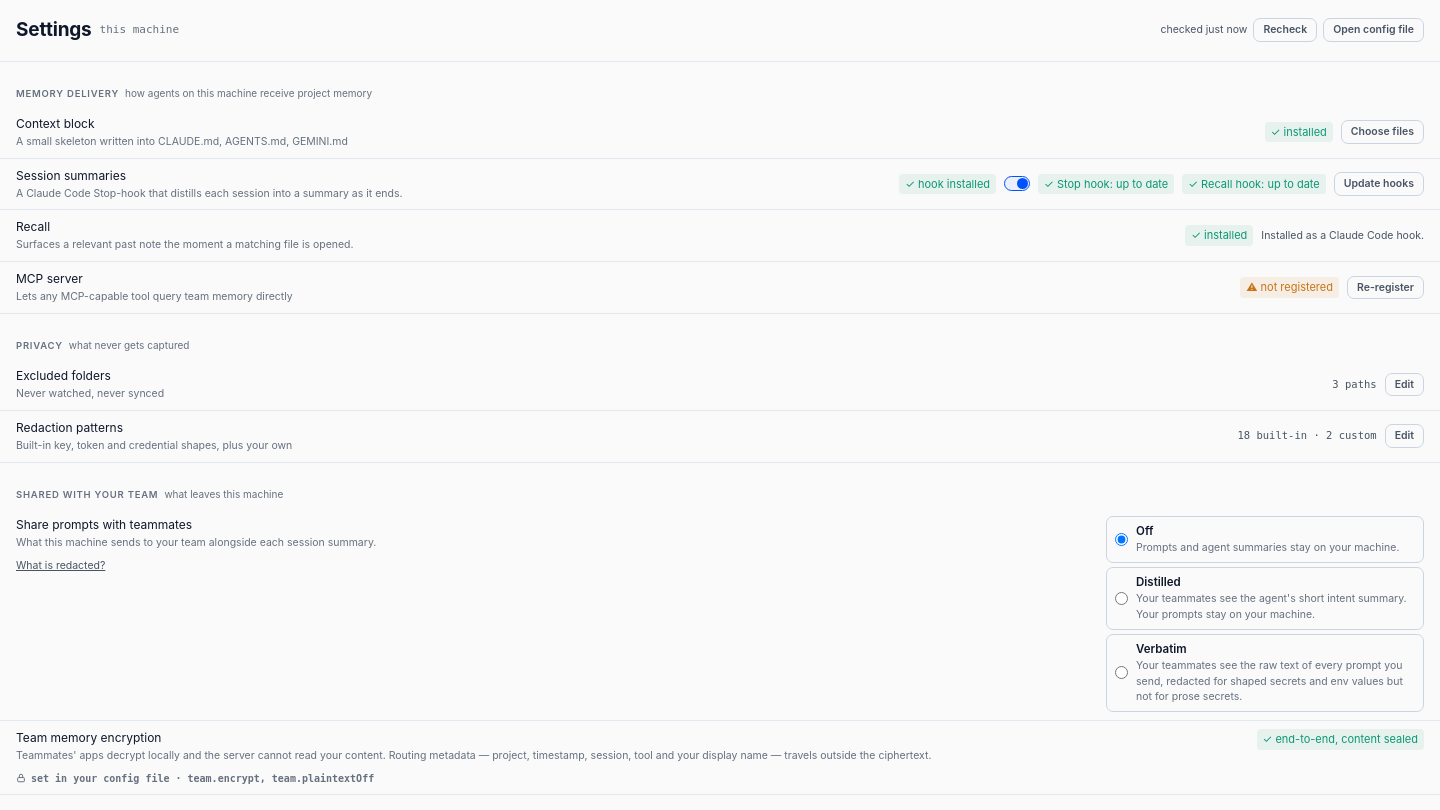
Test: SettingsPage › reports the per-tool result after Re-register succeeds
Click the button "Re-register" at (1386, 287), box [1347,276,1424,299]
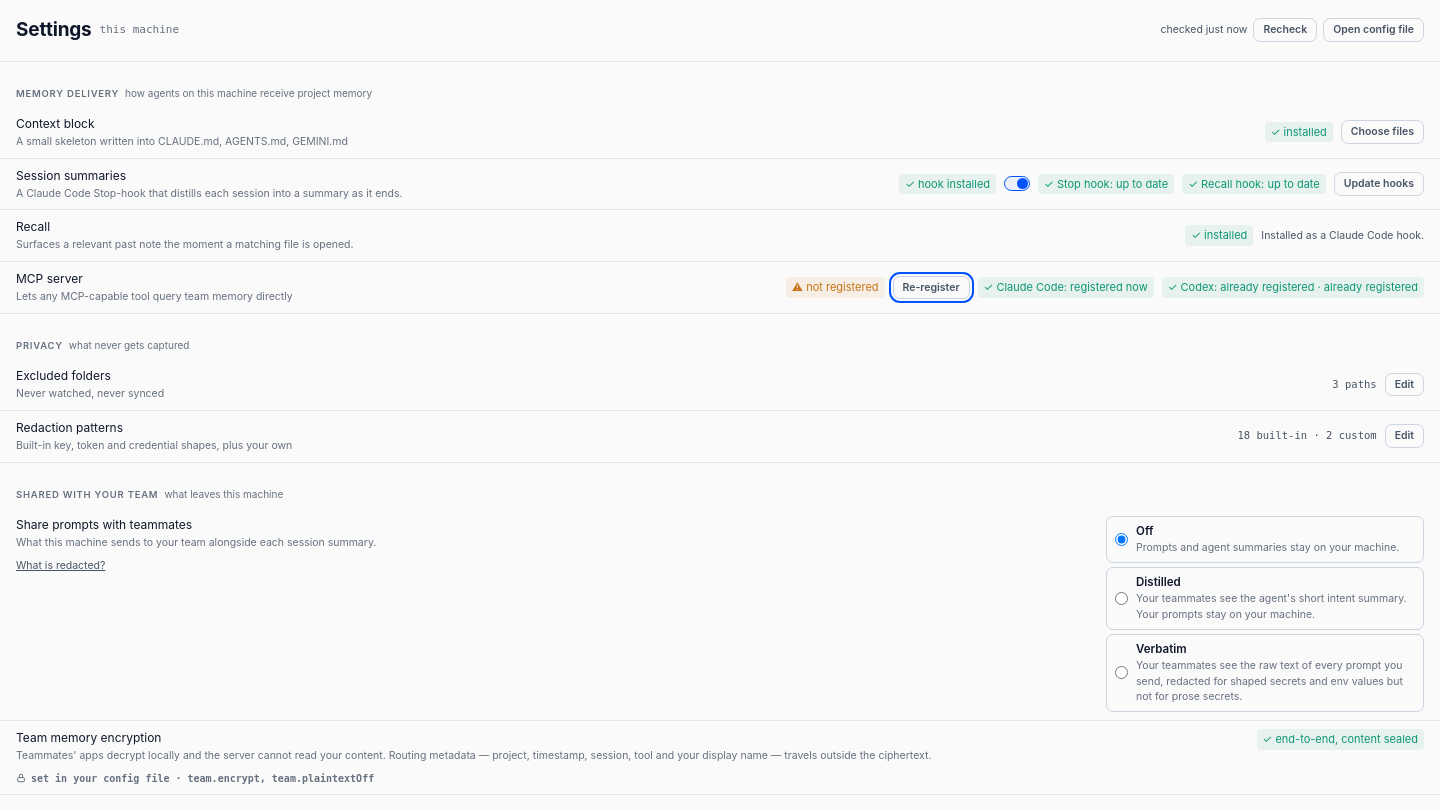
Expected: the text "✓ Claude Code: registered now" is shown, [978,277,1154,298]
Expected: the text "✓ Codex: already registered · already registered" is shown, [1162,277,1424,298]
